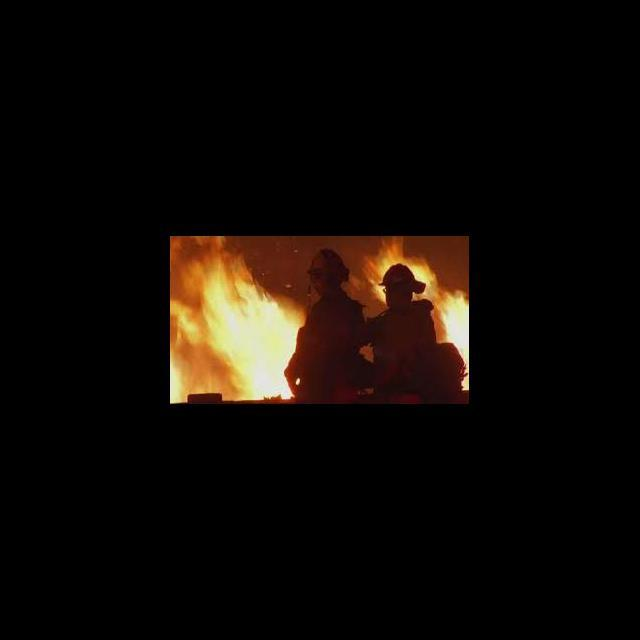Fire: (170, 236, 300, 402), (370, 238, 436, 298), (438, 284, 468, 391)
